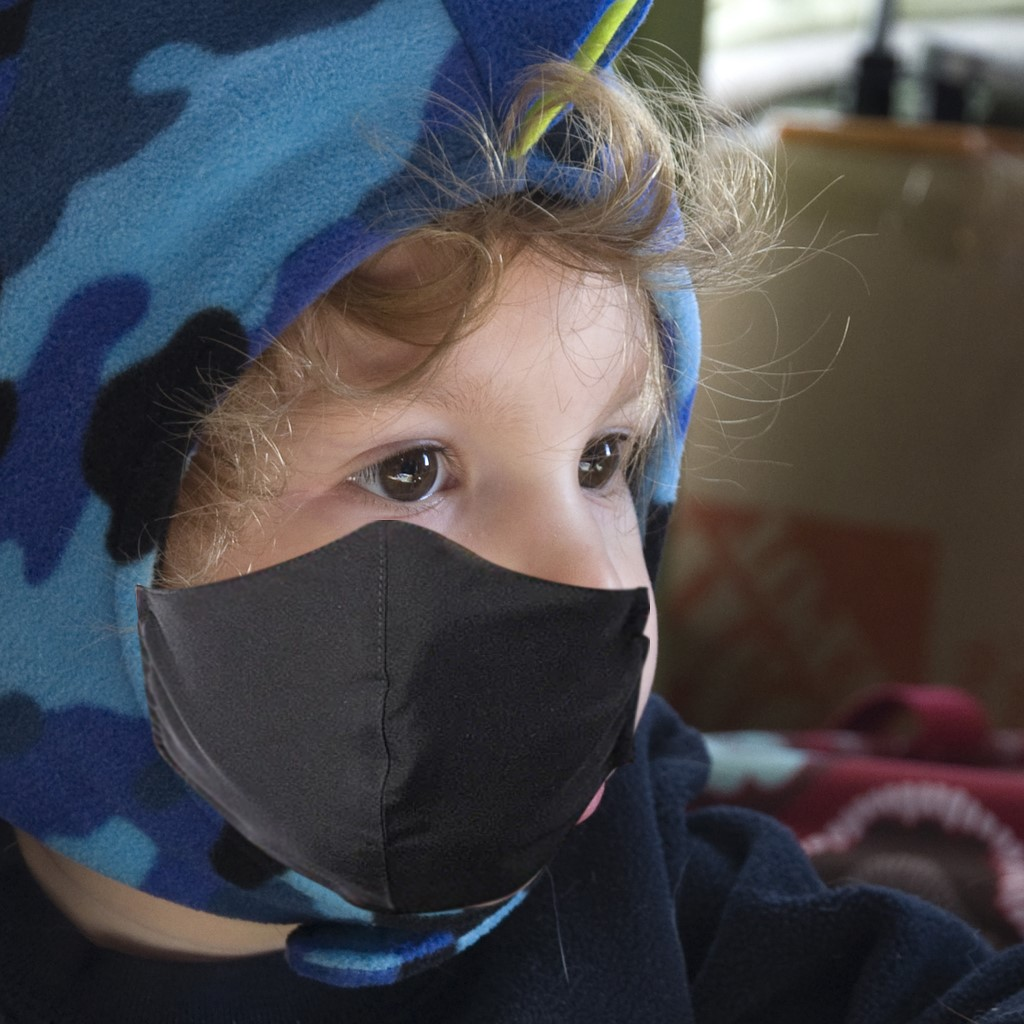con_mascara: (139, 107, 697, 939)
